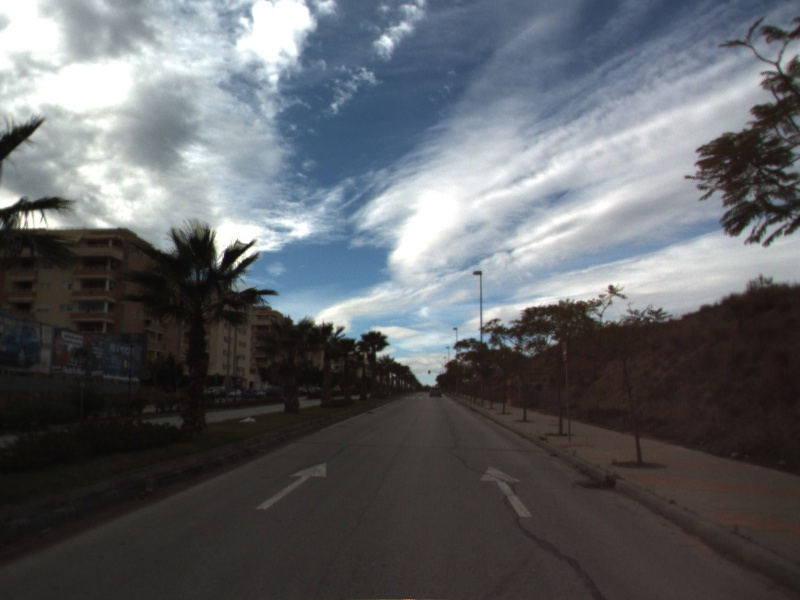STRAIGHT: (254, 460, 328, 511), (478, 463, 535, 520)
